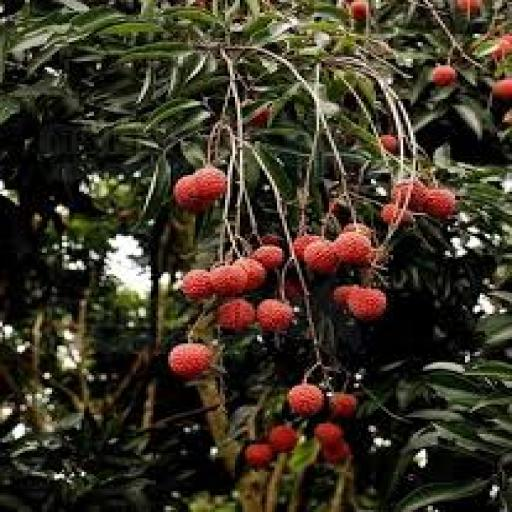lychee: (168, 344, 211, 379), (173, 175, 209, 212), (346, 287, 384, 322), (331, 232, 370, 265), (254, 300, 293, 332), (286, 384, 323, 417), (192, 167, 226, 202), (301, 241, 337, 273), (215, 300, 253, 330), (210, 266, 246, 297), (232, 258, 266, 290), (390, 180, 426, 210), (422, 188, 454, 219), (180, 270, 211, 301), (267, 424, 298, 453), (249, 245, 283, 269), (291, 234, 320, 259), (328, 392, 357, 417), (380, 203, 412, 225), (244, 443, 273, 467), (314, 422, 342, 446), (321, 441, 350, 463), (331, 285, 355, 307), (430, 66, 456, 86), (492, 34, 511, 61), (249, 106, 271, 128), (348, 0, 370, 21), (492, 78, 511, 101), (341, 224, 372, 238), (455, 0, 481, 14), (378, 135, 397, 153)
